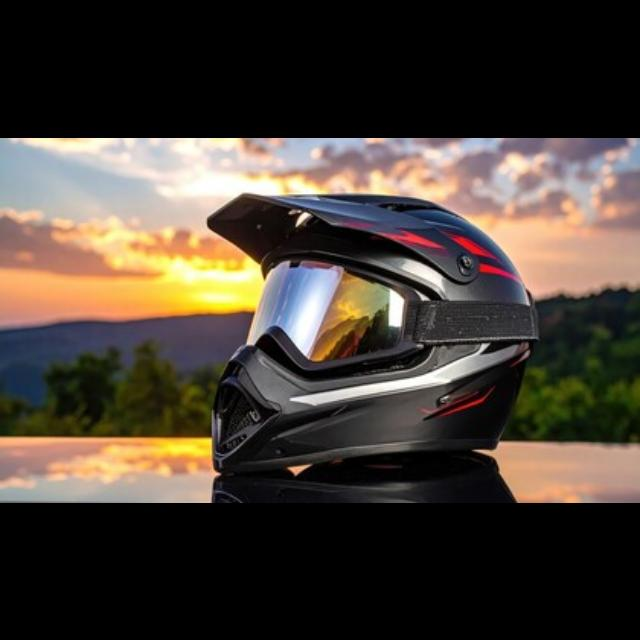motorcycle-helmets: (205, 187, 541, 478)
